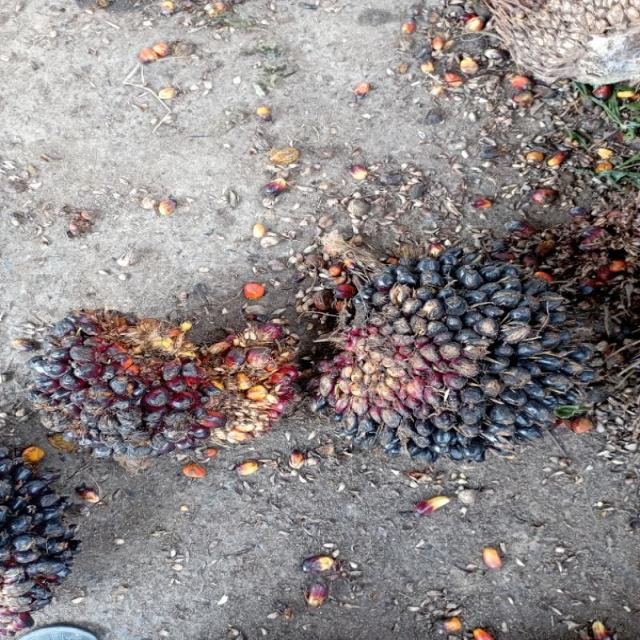fraksi 00: (324, 230, 599, 472)
fraksi 1: (28, 305, 298, 474)
